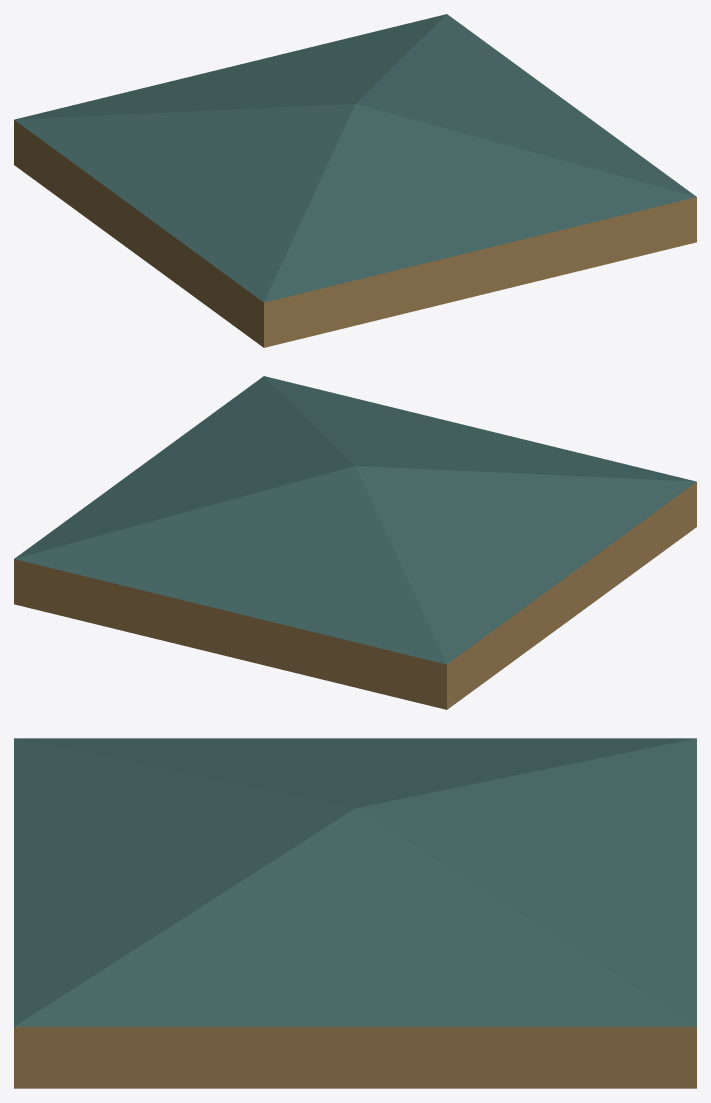
The model's file is naturePack_004.fbx.
The picture shows the model from 3 angles, top to bottom: view 1: azimuth 30°, elevation 25°; view 2: azimuth 150°, elevation 25°; view 3: azimuth 270°, elevation 25°; orthographic projection. The views are drawn at different scales.
Visible parts, largest first — view 1: Mesh1_Plate_Grass Model; view 2: Mesh1_Plate_Grass Model; view 3: Mesh1_Plate_Grass Model.
Part boxes in pixels (x1,y1,x2,y2): Mesh1_Plate_Grass Model: (14,14,696,347); Mesh1_Plate_Grass Model: (14,376,696,709); Mesh1_Plate_Grass Model: (14,738,696,1088).
Size of the model in its own units: 3 by 0.66 by 3.
